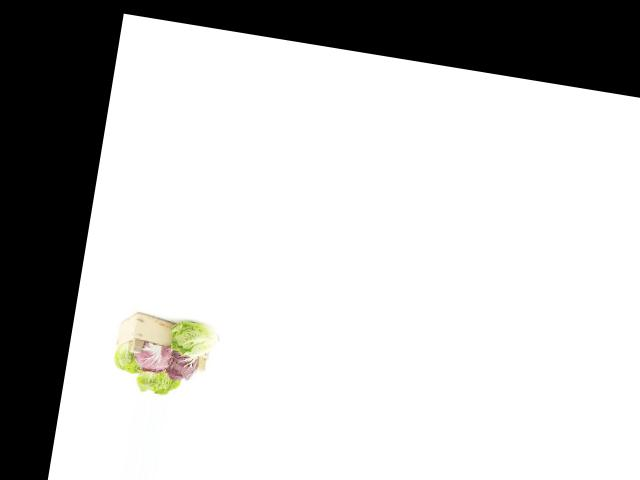lettuce: (134, 361, 182, 398)
